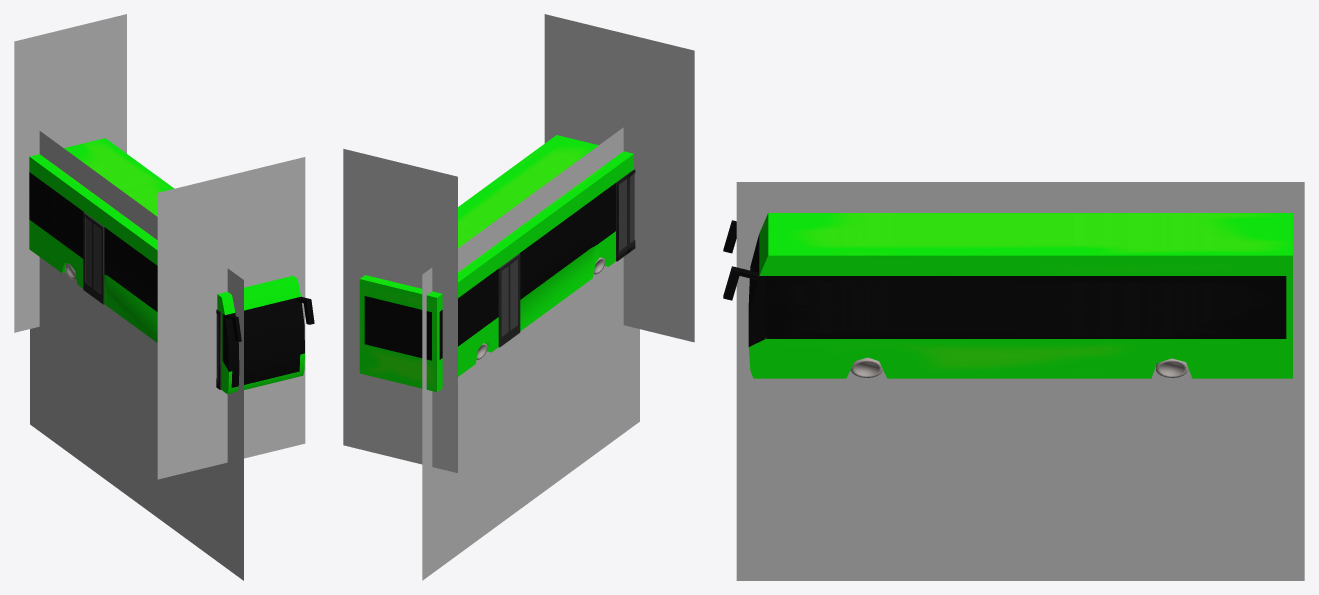
Rendered from TransitBusFinal.FBX.
3 views of the same model, side by side, from view 1: azimuth 30°, elevation 25°; view 2: azimuth 150°, elevation 25°; view 3: azimuth 270°, elevation 25° (orthographic). The views are drawn at different scales.
Parts seen in each view (by area): view 1: Front_Ref, bus, Side_Back_Ref, Back_Ref, Side_Front_Ref; view 2: bus, Front_Ref, Back_Ref, Side_Back_Ref, Side_Front_Ref; view 3: bus, Side_Front_Ref, Side_Back_Ref.
Boxes of the visible parts, <box> form: Front_Ref: <box>157,157,305,479</box>; bus: <box>29,138,314,393</box>; Side_Back_Ref: <box>30,131,144,507</box>; Back_Ref: <box>14,14,126,332</box>; Side_Front_Ref: <box>129,196,243,580</box>; bus: <box>359,135,635,392</box>; Front_Ref: <box>544,14,694,342</box>; Back_Ref: <box>343,149,457,472</box>; Side_Back_Ref: <box>422,201,539,580</box>; Side_Front_Ref: <box>523,127,639,494</box>; bus: <box>723,213,1292,378</box>; Side_Front_Ref: <box>736,182,1041,580</box>; Side_Back_Ref: <box>999,182,1304,580</box>.
Bounding box in the file's own units: 208 × 500 × 501.
